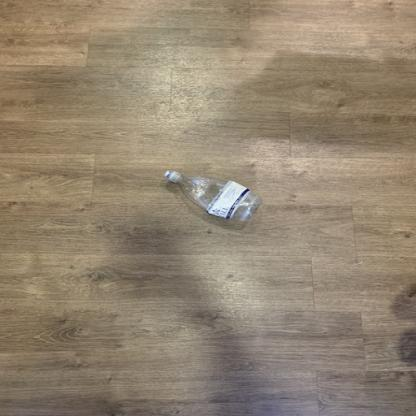trash: (162, 170, 266, 222)
